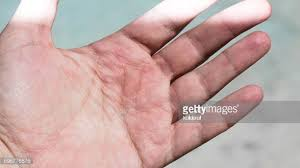palm: (19, 43, 172, 158)
